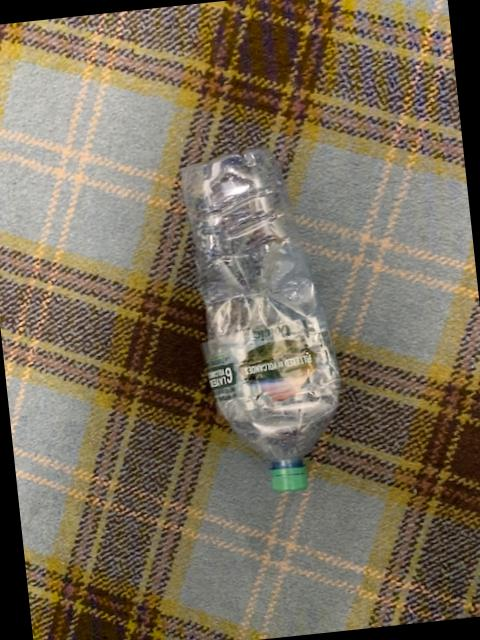plastic: (180, 147, 337, 489)
